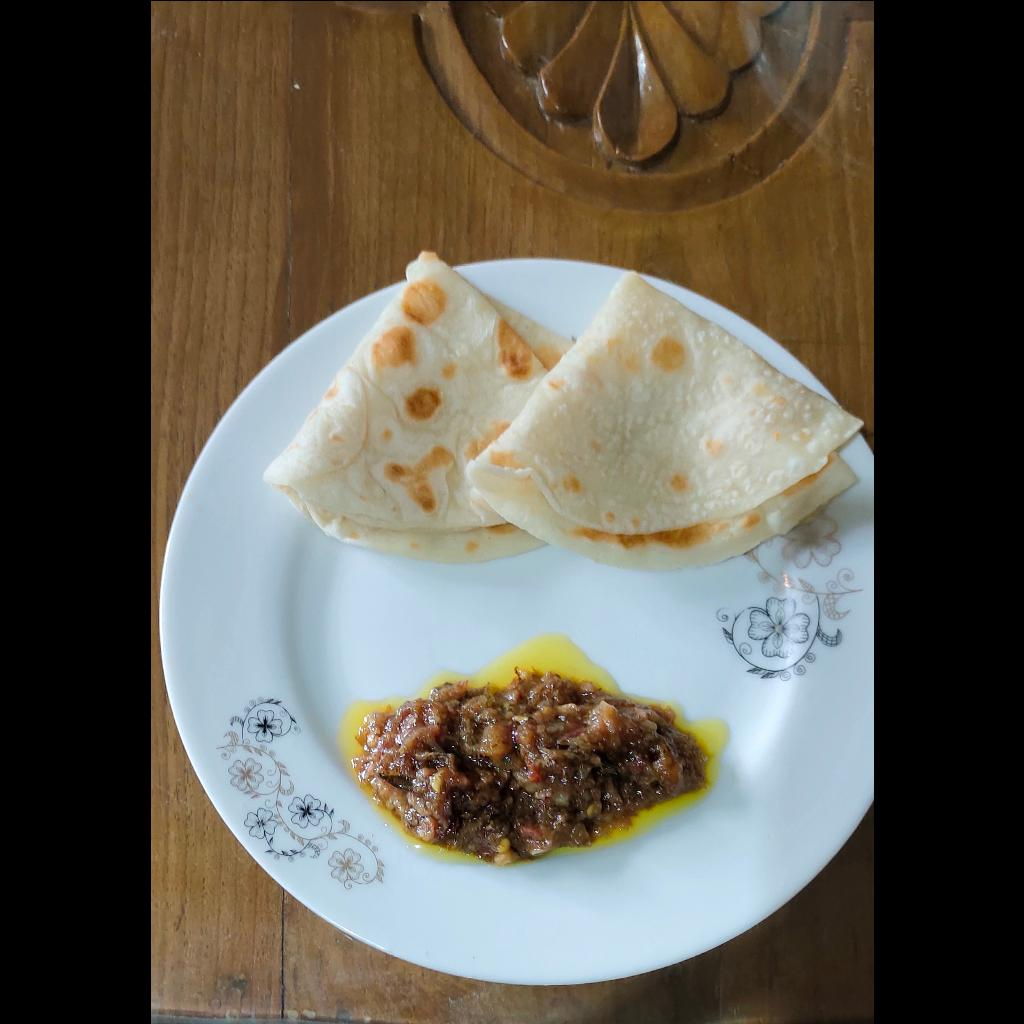achar: (337, 633, 725, 864)
ruti: (262, 247, 871, 575)
